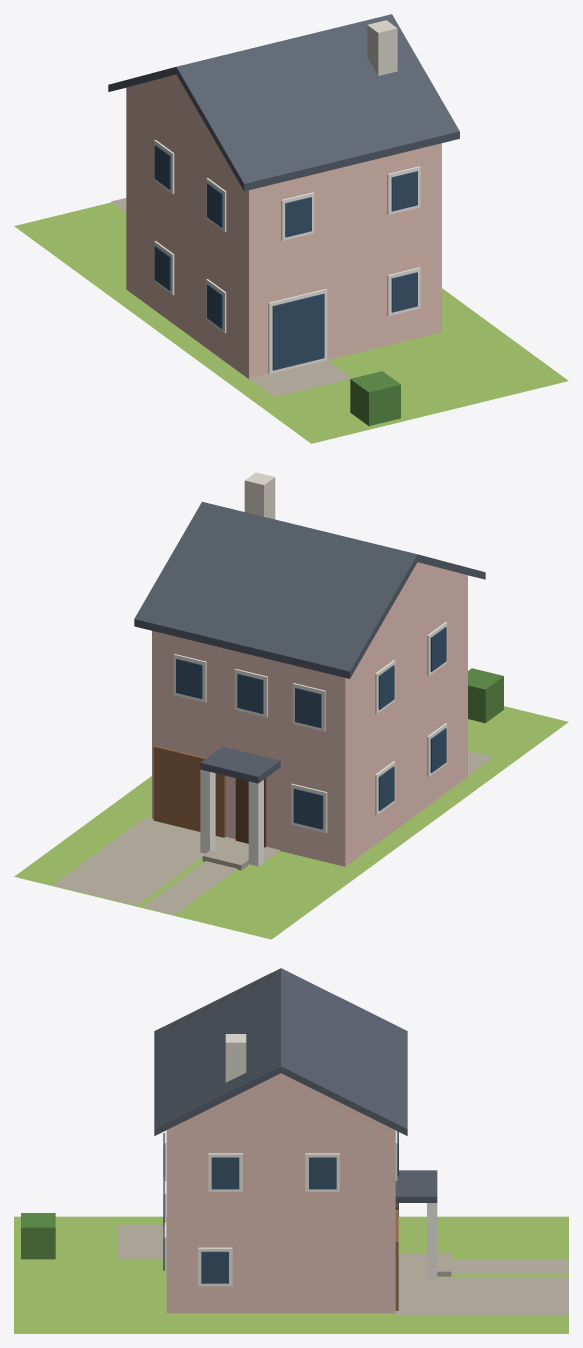
The picture shows the model from 3 angles, top to bottom: view 1: azimuth 30°, elevation 25°; view 2: azimuth 150°, elevation 25°; view 3: azimuth 270°, elevation 25°; orthographic projection. The views are drawn at different scales.
Parts seen in each view (by area): view 1: walls, roof, lawn, window_glass (×8), window_frame (×4), tree_spot, patio, chimney; view 2: walls, roof, lawn, drive, window_glass (×8), garage_door, post (×2), path, porch_roof, tree_spot, chimney, door (+2 smaller); view 3: walls, lawn, roof, drive, window_glass (×3), path, patio, tree_spot, window_frame (×3), porch_roof, chimney, post (+1 smaller).
Part boxes in pixels (<box>): walls: <box>126,74,441,379</box>; roof: <box>108,14,459,191</box>; lawn: <box>14,202,568,443</box>; window_glass (×8): <box>154,145,417,370</box>; window_frame (×4): <box>268,166,420,374</box>; tree_spot: <box>350,371,400,425</box>; patio: <box>249,360,351,397</box>; chimney: <box>367,20,397,75</box>; walls: <box>152,562,467,866</box>; roof: <box>134,501,485,678</box>; lawn: <box>14,706,568,939</box>; drive: <box>53,817,220,905</box>; window_glass (×8): <box>176,627,446,829</box>; garage_door: <box>153,745,225,837</box>; post (×2): <box>200,769,263,866</box>; path: <box>143,861,237,914</box>; porch_roof: <box>200,746,280,783</box>; tree_spot: <box>468,668,503,723</box>; chimney: <box>244,472,275,519</box>; door: <box>235,778,266,847</box>; walls: <box>166,1073,395,1313</box>; lawn: <box>14,1216,568,1333</box>; roof: <box>154,968,407,1135</box>; drive: <box>395,1277,568,1315</box>; window_glass (×3): <box>201,1157,336,1283</box>; path: <box>451,1259,568,1274</box>; patio: <box>118,1224,166,1259</box>; tree_spot: <box>21,1213,55,1259</box>; window_frame (×3): <box>198,1153,339,1286</box>; porch_roof: <box>395,1170,437,1202</box>; chimney: <box>225,1034,246,1082</box>; post: <box>427,1203,437,1280</box>.
Size of the model in its own units: 8 by 8.44 by 16.
